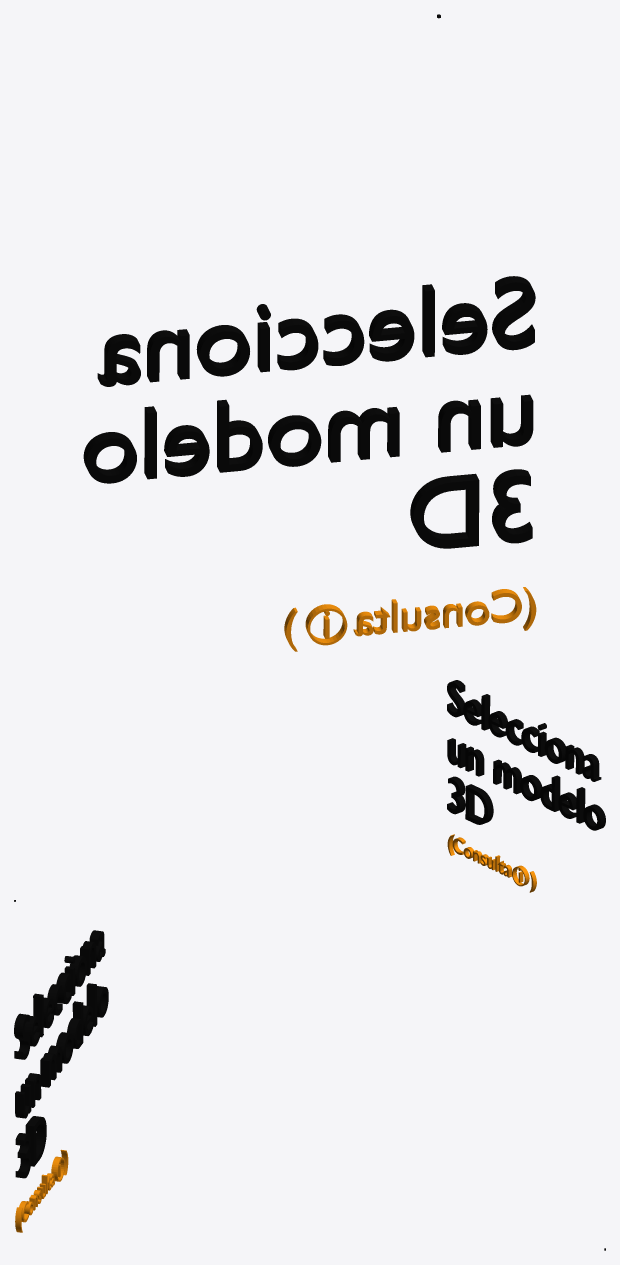
File: Guia3D.glb
The picture shows the model from 3 angles, top to bottom: view 1: azimuth 30°, elevation 25°; view 2: azimuth 150°, elevation 25°; view 3: azimuth 270°, elevation 25°; orthographic projection. The views are drawn at different scales.
Parts seen in each view (by area): view 1: Texto, Texto.002; view 2: Texto, Texto.002; view 3: Texto, Texto.002.
Boxes of the visible parts, x1,y1,x2,y2 form: Texto: (83,276,535,548); Texto.002: (284,587,536,651); Texto: (447,680,605,830); Texto.002: (447,834,536,892); Texto: (14,930,108,1178); Texto.002: (15,1149,68,1232).
Bounding box in the file's own units: 0.3013 × 0.1314 × 0.3304.
